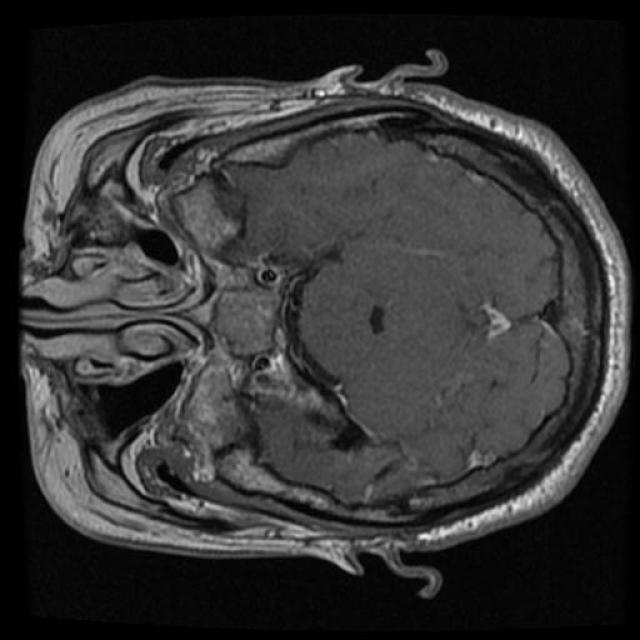Pituitary: (214, 289, 278, 355)
